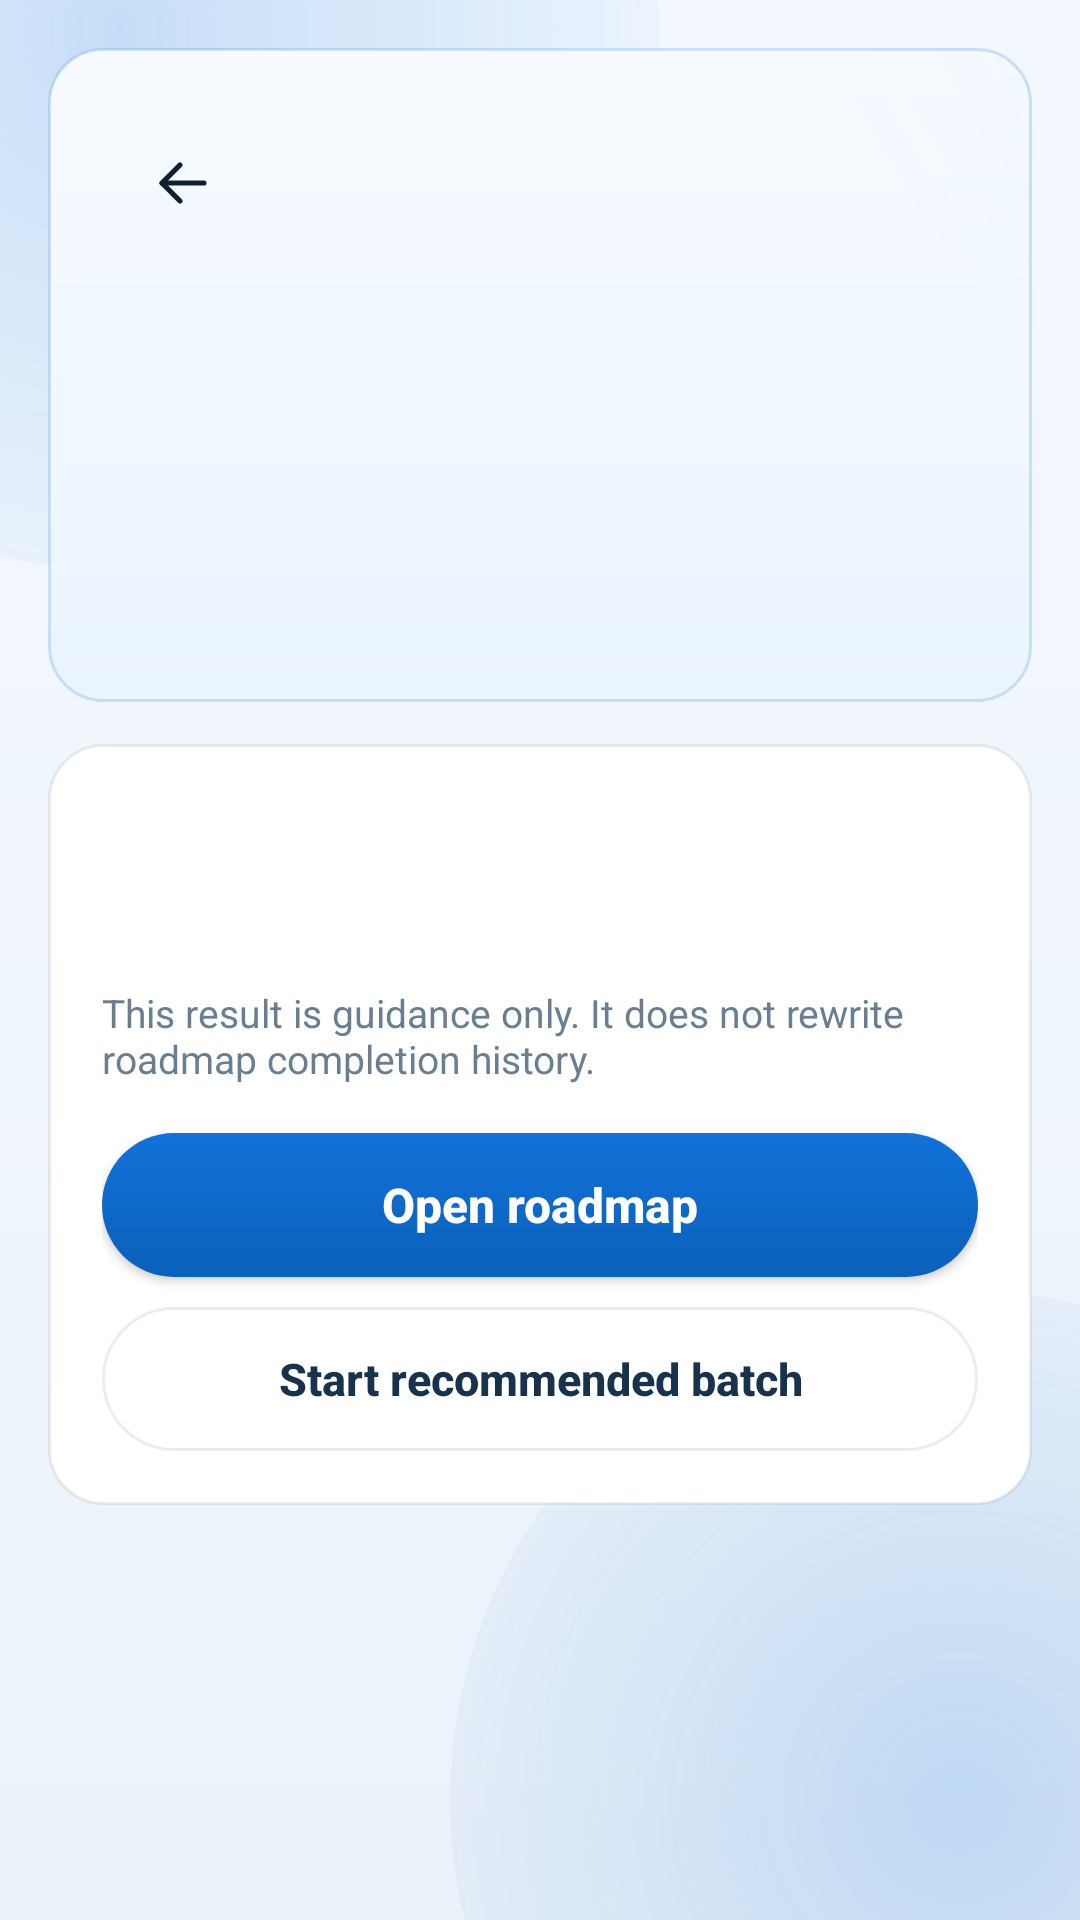

Where icons sit on this 1080px×1920px app screen, as (x1, y1, x2, y2):
Back: (159, 162, 207, 204)
